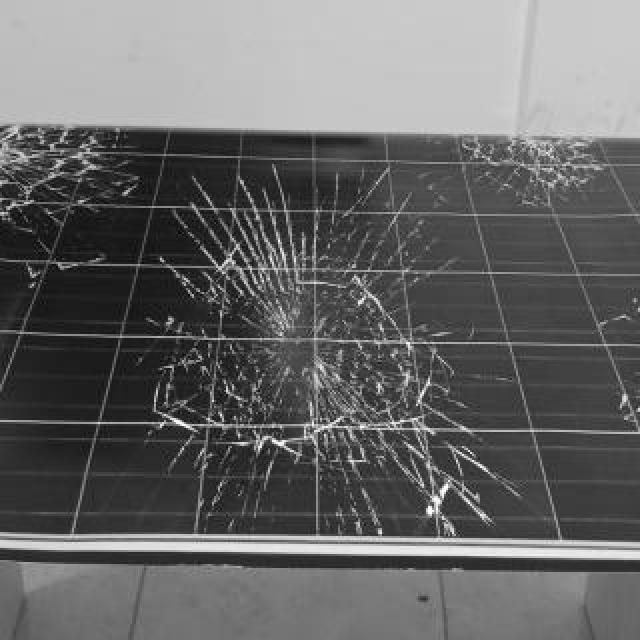Physical-damage: (128, 155, 547, 543), (0, 127, 153, 302), (403, 132, 616, 219)
